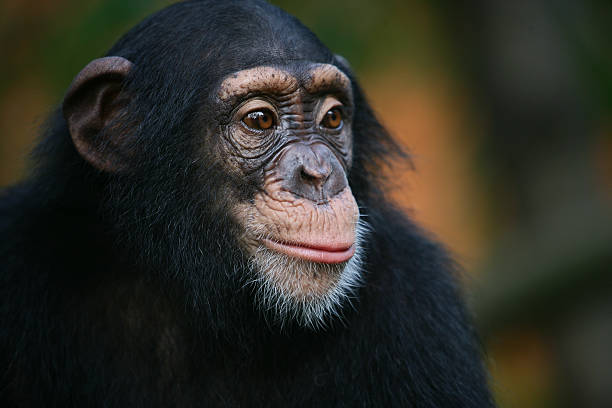chimpanzee: (5, 4, 432, 349)
